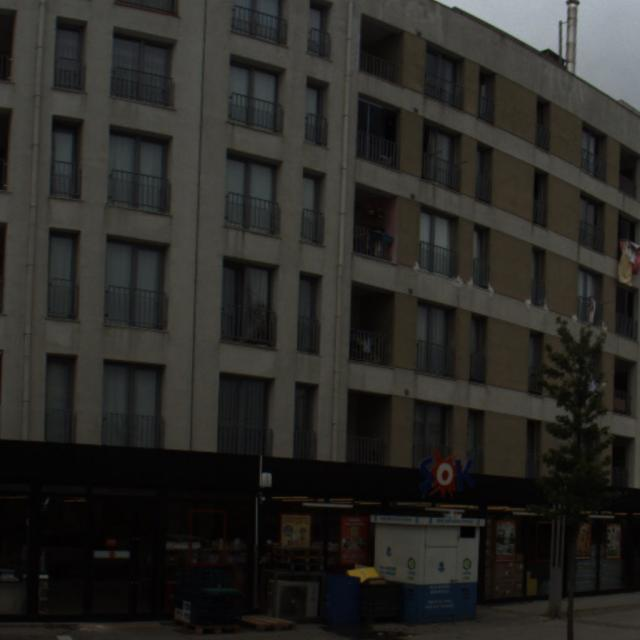SignStore: (362, 447, 521, 504)
